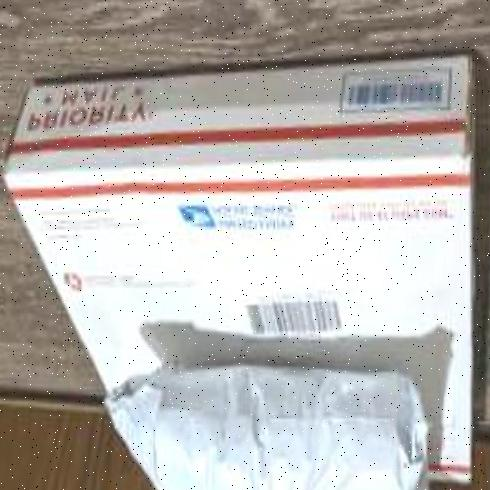Other: (12, 57, 474, 482), (117, 361, 441, 490)
